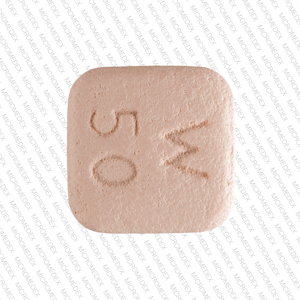Square: (66, 67, 233, 235)
